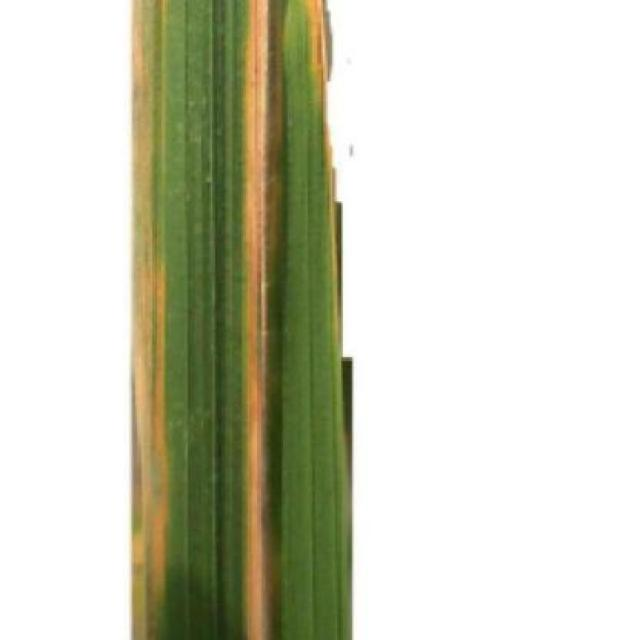Brown_Spot: (123, 0, 363, 640)
